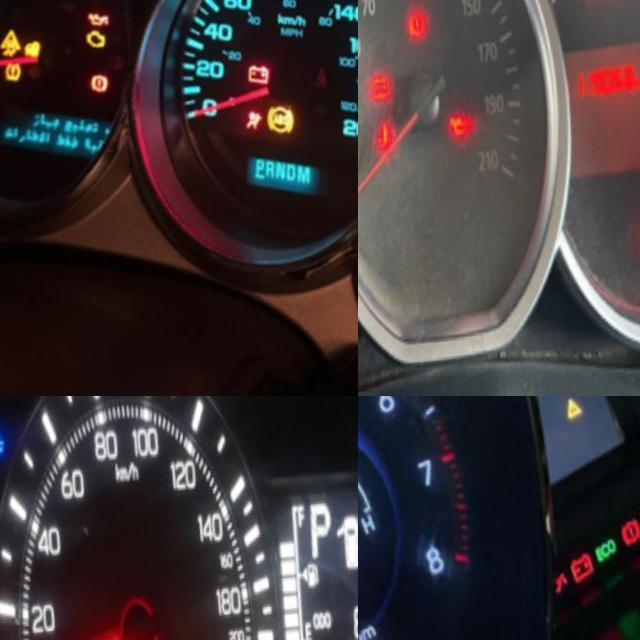Central Warning lamp: (553, 410, 578, 442)
Engine cooling system: (361, 126, 390, 168)
Low fuel level: (624, 231, 640, 272)
security: (13, 39, 40, 71)
